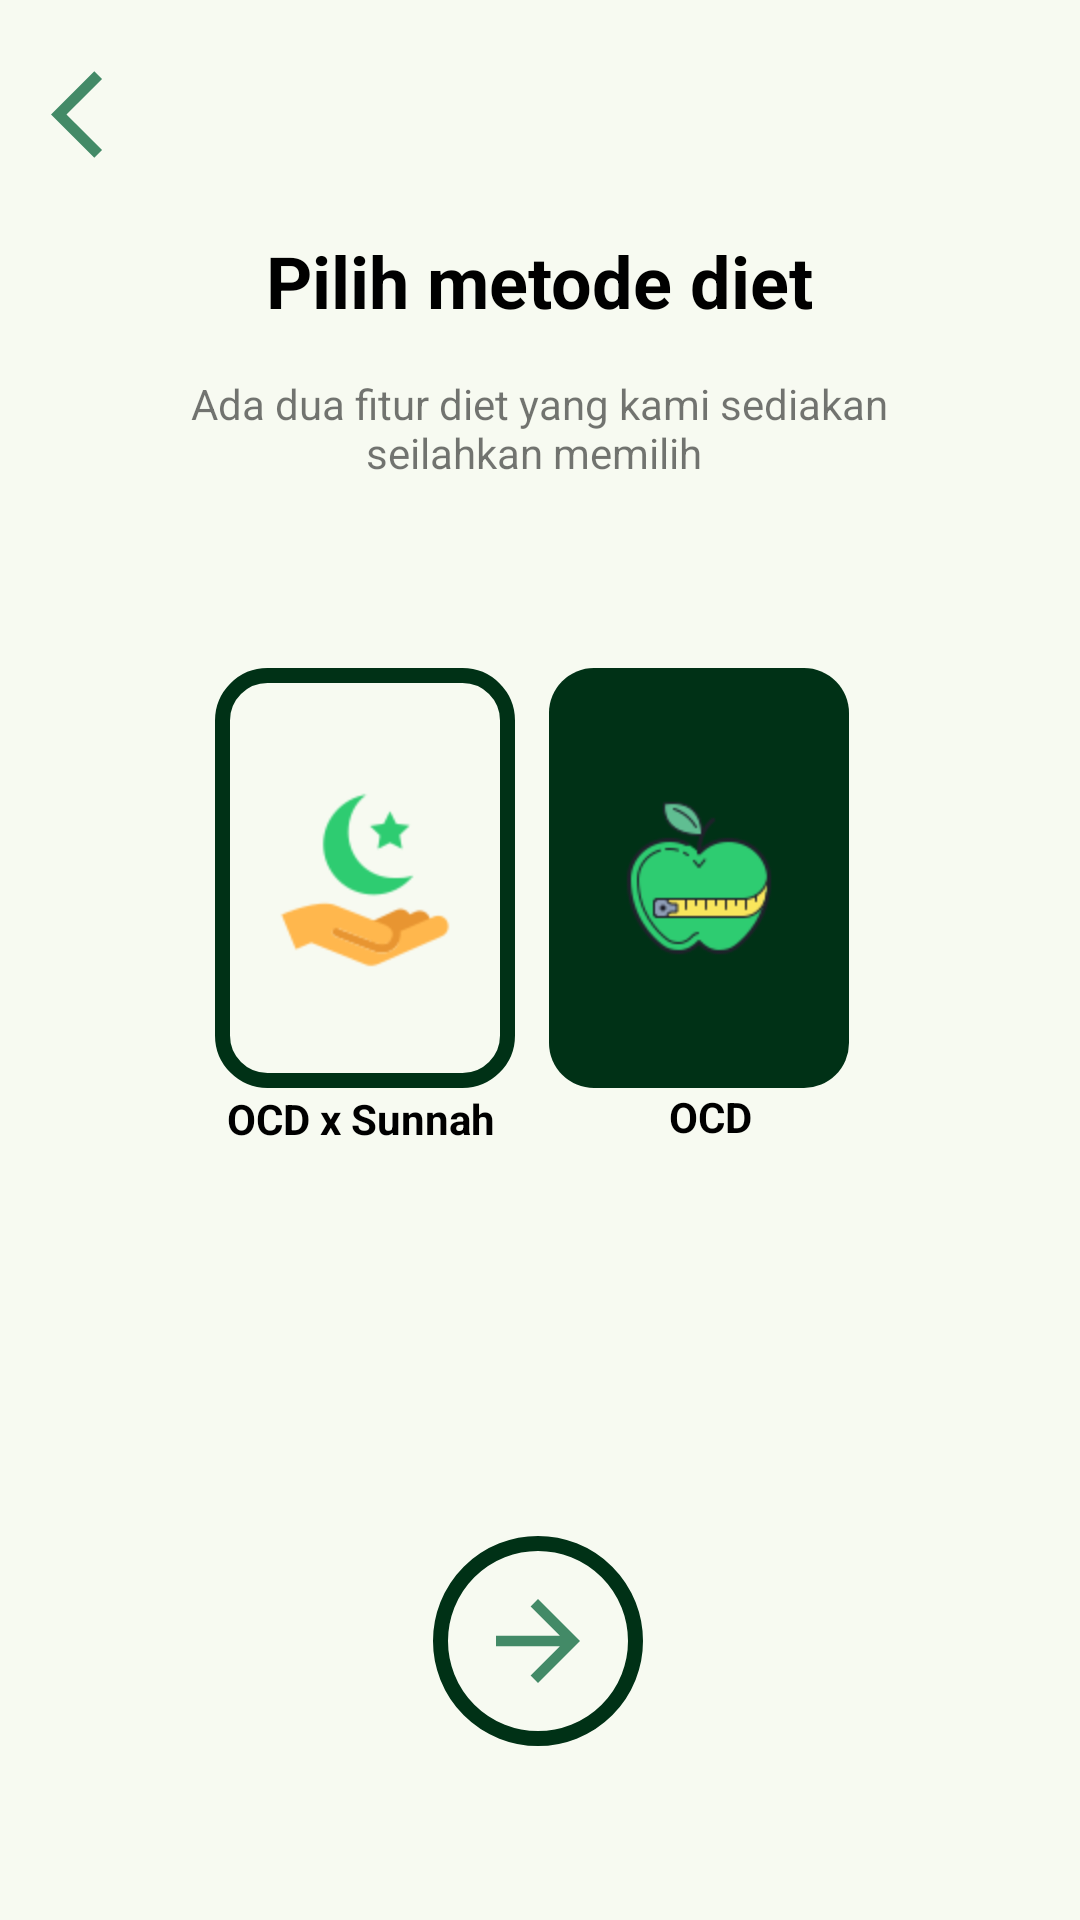

Where to tap for icons on this 1080px x 1920px app screen, as point (x, y):
back: point (76, 114)
next: point (538, 1641)
